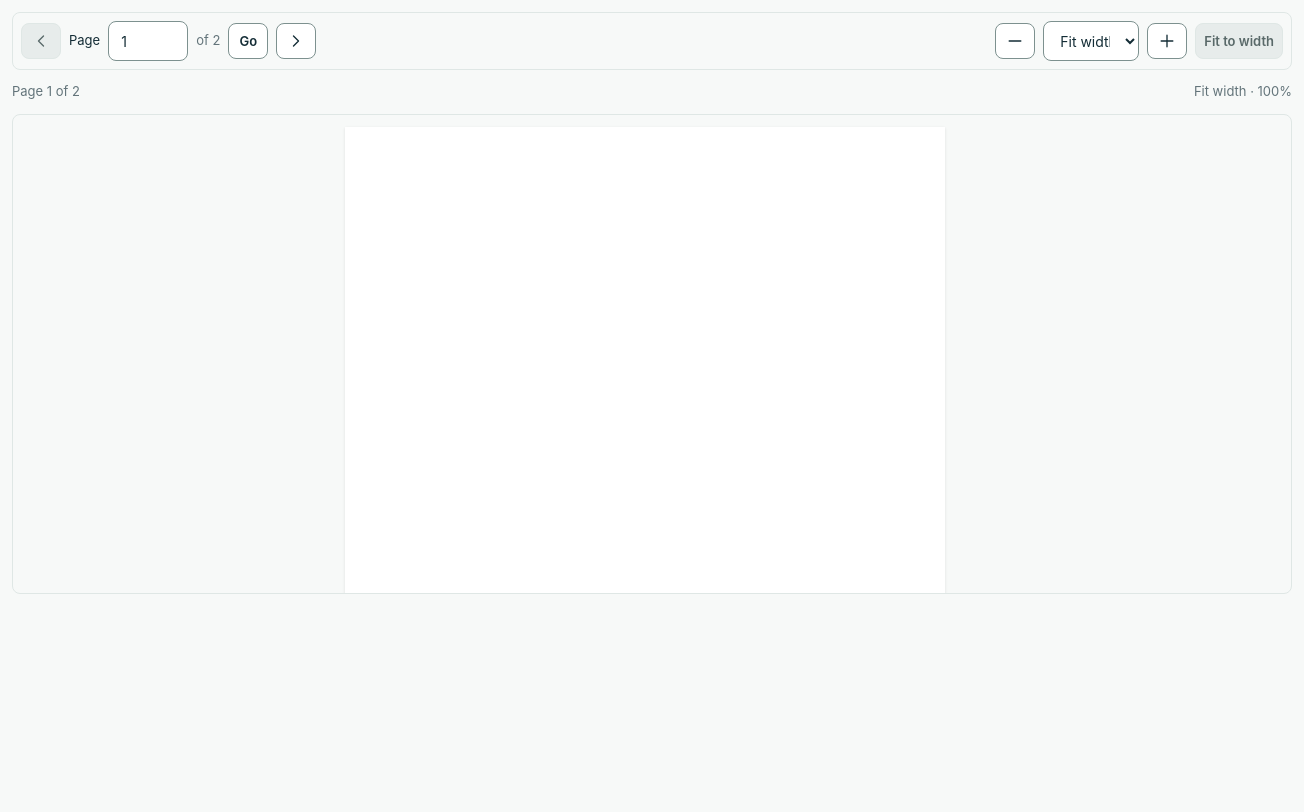
Scenario: PDF page reader › rejects invalid direct page entry "0" without inventing a page
This screenshot has width=1304, height=812.
Replace the text in the number field named "Page number" with "0" at (148, 41), box [108,21,188,61]
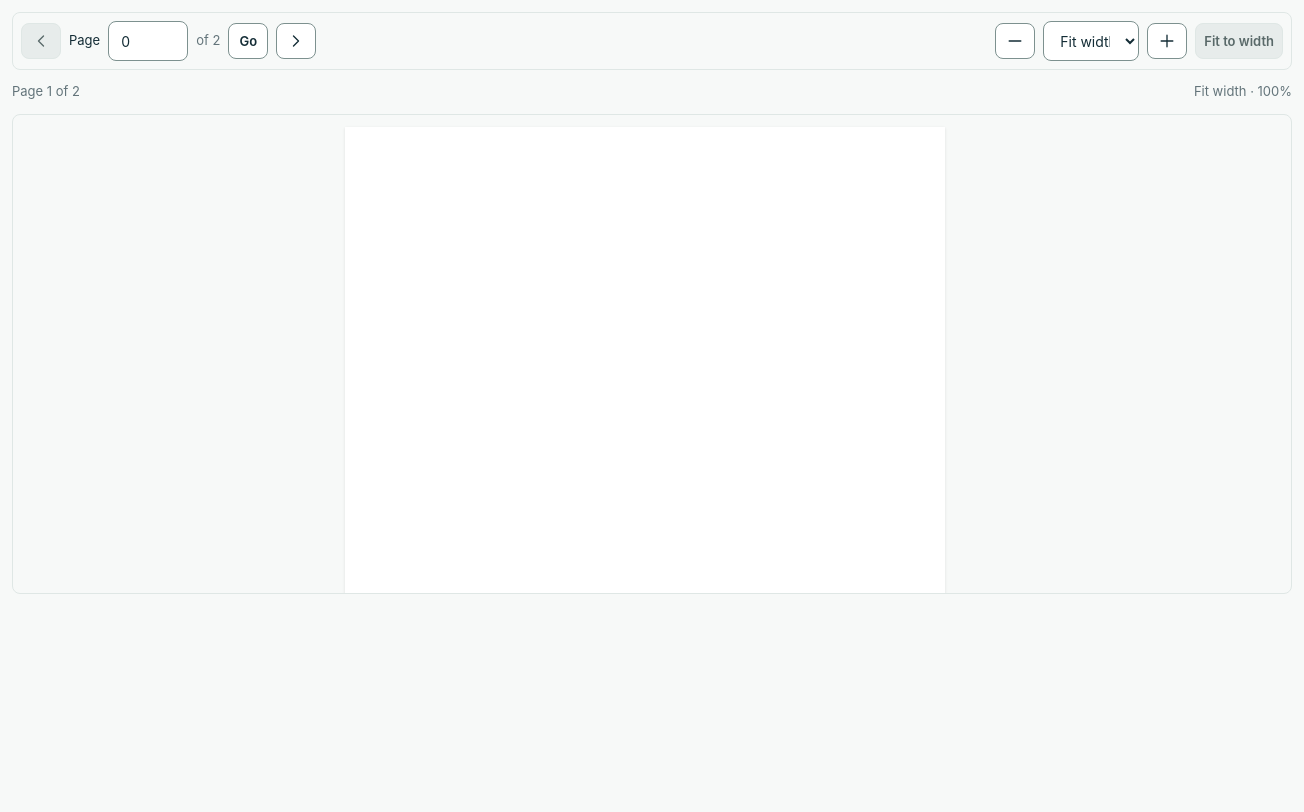
Click the button "Go" at (248, 41), box [228,23,268,59]
(page scrolled)
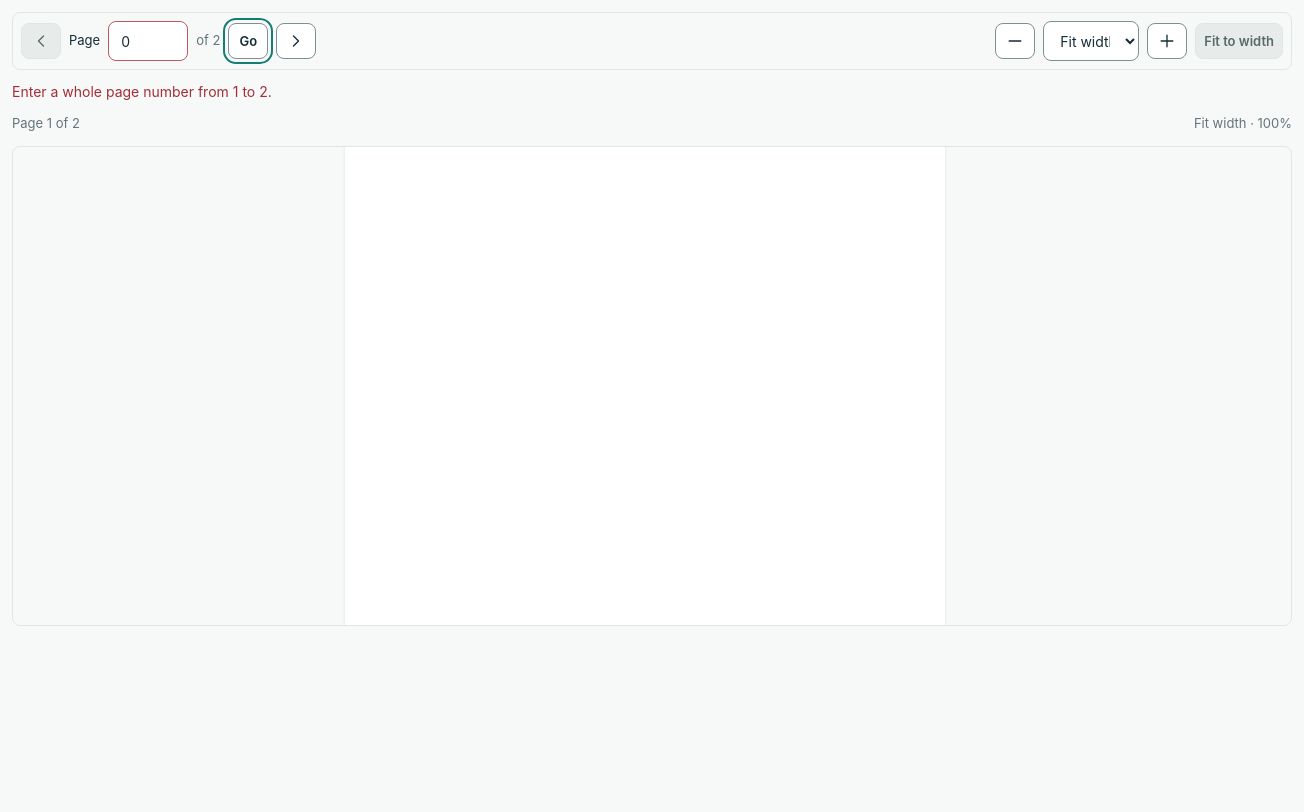
Expected: the text "Page 1 of 2" is shown, [12,114,80,134]
Now the message reads "Enter a whole page number from 1 to 2.", box [12,83,272,100]
